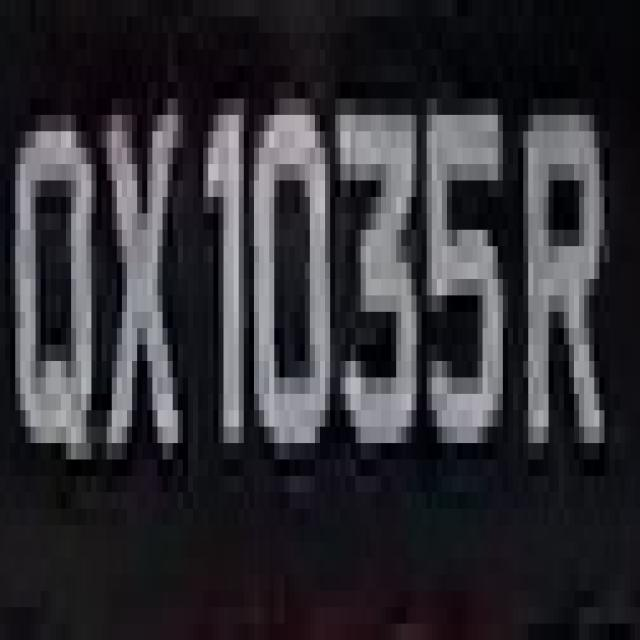0: (249, 82, 345, 443)
1: (203, 66, 254, 508)
3: (335, 66, 427, 427)
5: (417, 49, 513, 476)
Q: (5, 82, 107, 492)
R: (508, 66, 615, 476)
X: (91, 66, 188, 492)
